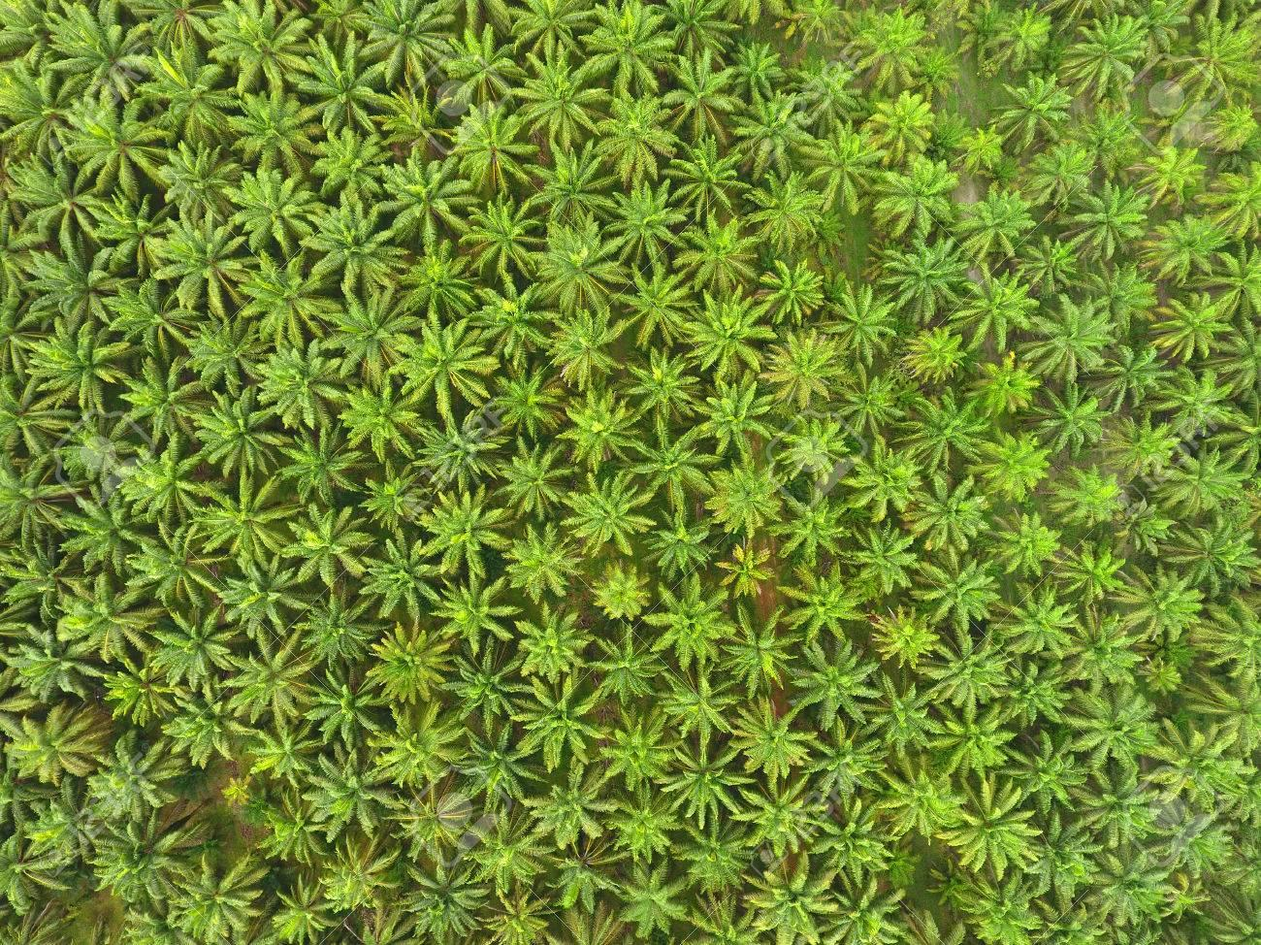coconut_tree: (753, 865, 824, 944), (156, 50, 227, 128), (1000, 61, 1071, 139), (94, 746, 165, 824), (1042, 382, 1113, 460), (543, 148, 614, 226), (603, 703, 674, 781), (522, 605, 593, 683), (546, 779, 617, 857), (576, 474, 647, 552), (1159, 292, 1230, 370), (969, 344, 1040, 422), (728, 708, 799, 786), (61, 489, 132, 567), (169, 215, 240, 293), (904, 315, 975, 393), (204, 474, 275, 552), (797, 644, 868, 722), (875, 156, 946, 234), (505, 522, 576, 600), (319, 753, 390, 831), (267, 348, 338, 426), (120, 442, 191, 520), (655, 588, 726, 666), (716, 458, 787, 536), (407, 325, 478, 403), (457, 101, 528, 179), (609, 191, 680, 269), (769, 329, 840, 407), (598, 93, 669, 171), (668, 52, 739, 130), (797, 117, 868, 195), (866, 90, 937, 168), (1158, 215, 1229, 293), (1044, 294, 1115, 372), (955, 182, 1026, 260), (845, 436, 916, 513), (1130, 566, 1201, 643), (319, 201, 390, 278), (372, 631, 443, 708), (961, 787, 1032, 864), (678, 826, 749, 903), (954, 176, 1025, 253), (877, 760, 948, 837), (909, 472, 980, 549), (990, 503, 1061, 580), (229, 0, 300, 77), (505, 432, 576, 509), (183, 690, 254, 767), (245, 167, 316, 244), (60, 6, 131, 83), (859, 6, 930, 83), (1073, 167, 1144, 244), (370, 540, 440, 618), (368, 538, 438, 616), (431, 477, 501, 555), (270, 419, 340, 497), (11, 707, 81, 785), (239, 85, 309, 163), (629, 351, 699, 429), (146, 52, 216, 130), (79, 102, 149, 179), (175, 863, 245, 940), (595, 0, 665, 77)
